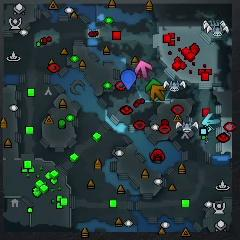p1: (121, 70, 137, 90)
x1: (134, 61, 153, 78)
x3: (202, 113, 221, 131)
x4: (144, 78, 163, 92)
x5: (149, 84, 167, 102)
